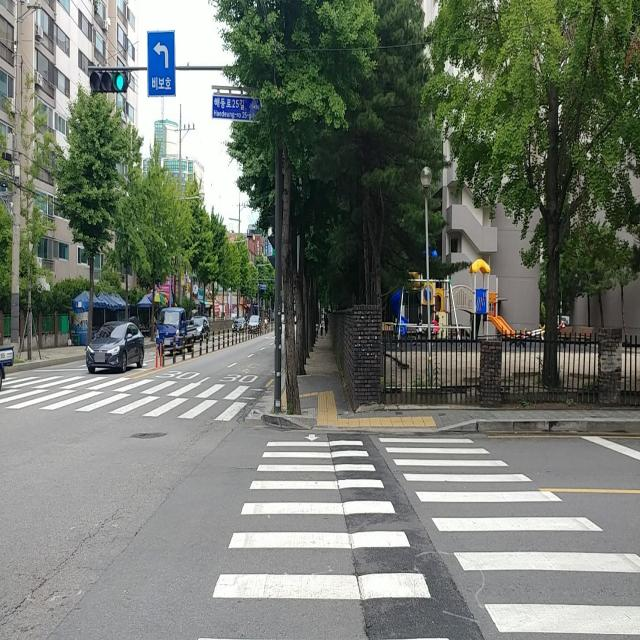횡단보도: (196, 432, 639, 640)
